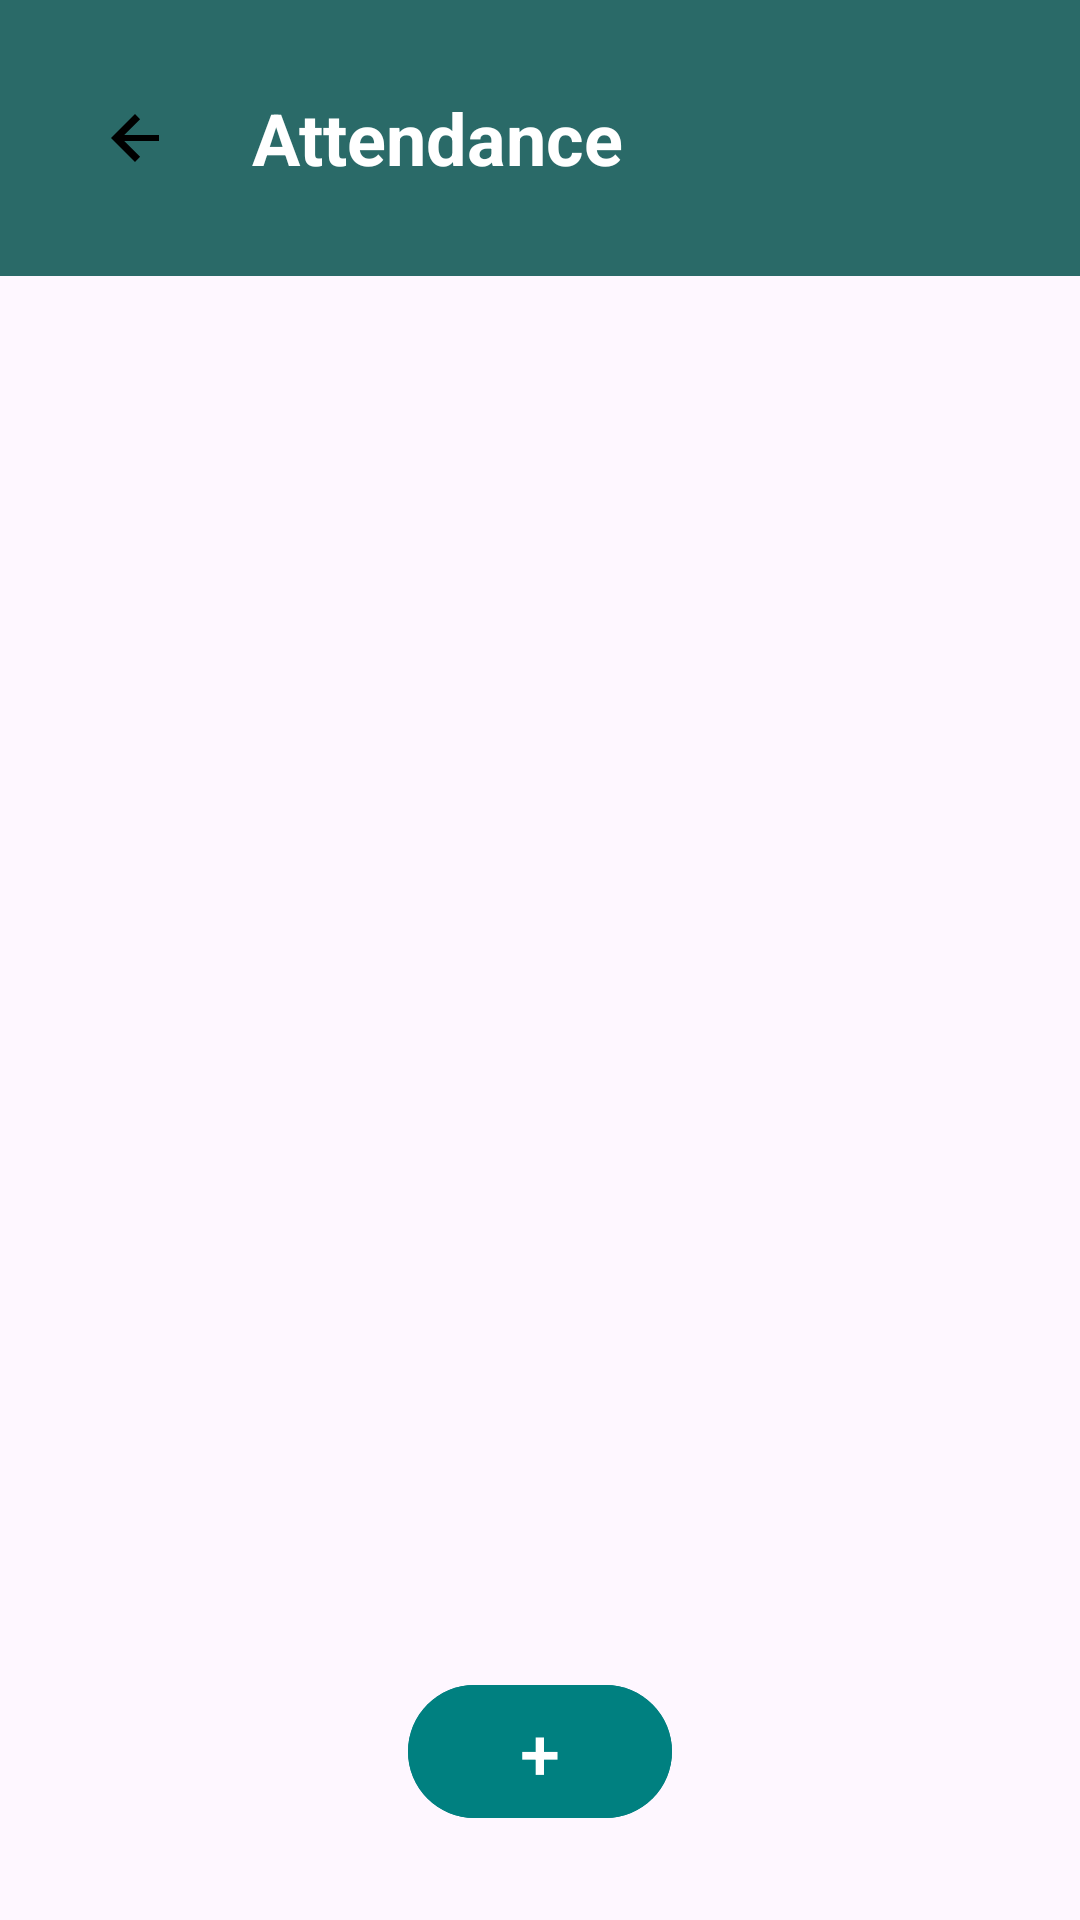

Point at icon controls on the screen. Image size 1080 x 1920, points as (x,y).
Back: (135,138)
